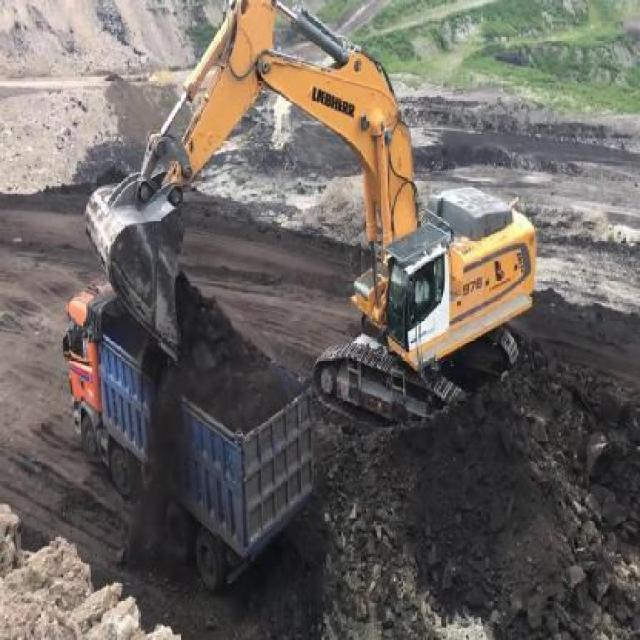dump truck: (60, 281, 314, 596)
excavator: (82, 0, 540, 434)
